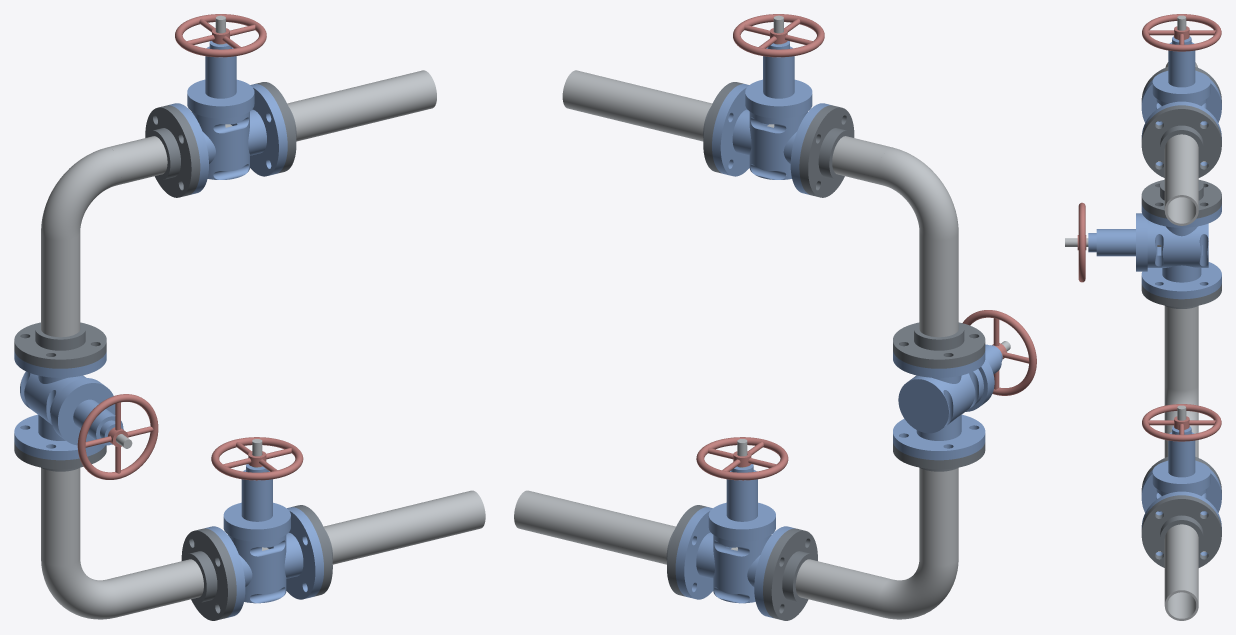
File: step_35.glb
3 renders of one model, left to right at view 1: azimuth 30°, elevation 25°; view 2: azimuth 150°, elevation 25°; view 3: azimuth 270°, elevation 25°, orthographic. The views are drawn at different scales.
Visible parts, largest first — view 1: part__body top valve, part__body bottom valve, part__bottom pipe, outlet, 360 long, part__top pipe, outlet, 335 long, part__body riser valve, part__bend 2 (top), part__riser pipe, upper, 230 long, part__riser pipe, lower, 70 long, part__bottom pipe, inlet, 210 long, part__flange bottom, inlet, part__flange top, inlet, part__flange riser, outlet (+11 smaller); view 2: part__body riser valve, part__body top valve, part__body bottom valve, part__bottom pipe, outlet, 360 long, part__top pipe, outlet, 335 long, part__bend 2 (top), part__riser pipe, upper, 230 long, part__riser pipe, lower, 70 long, part__bottom pipe, inlet, 210 long, part__flange top, inlet, part__flange bottom, inlet, part__flange riser, outlet (+10 smaller); view 3: part__body riser valve, part__flange bottom, outlet, part__flange top, outlet, part__bottom pipe, outlet, 360 long, part__top pipe, outlet, 335 long, part__riser pipe, lower, 70 long, part__bonnet top valve, part__bonnet bottom valve, part__handwheel top valve, part__handwheel bottom valve, part__body bottom valve, part__body top valve (+7 smaller).
Part boxes in pixels (bbox=[...]): part__body top valve: bbox=[168, 84, 287, 194]; part__body bottom valve: bbox=[205, 507, 323, 617]; part__bottom pipe, outlet, 360 long: bbox=[324, 490, 485, 564]; part__top pipe, outlet, 335 long: bbox=[287, 70, 436, 141]; part__body riser valve: bbox=[14, 351, 106, 460]; part__bend 2 (top): bbox=[41, 147, 121, 240]; part__riser pipe, upper, 230 long: bbox=[41, 233, 80, 337]; part__riser pipe, lower, 70 long: bbox=[41, 468, 80, 565]; part__bottom pipe, inlet, 210 long: bbox=[108, 559, 203, 617]; part__flange bottom, inlet: bbox=[181, 528, 236, 620]; part__flange top, inlet: bbox=[145, 105, 200, 197]; part__flange riser, outlet: bbox=[14, 322, 106, 368]; part__body riser valve: bbox=[893, 351, 991, 460]; part__body top valve: bbox=[712, 84, 831, 194]; part__body bottom valve: bbox=[675, 507, 795, 618]; part__bottom pipe, outlet, 360 long: bbox=[514, 490, 675, 564]; part__top pipe, outlet, 335 long: bbox=[562, 70, 712, 141]; part__bend 2 (top): bbox=[878, 147, 958, 240]; part__riser pipe, upper, 230 long: bbox=[919, 232, 958, 337]; part__riser pipe, lower, 70 long: bbox=[919, 468, 958, 565]; part__bottom pipe, inlet, 210 long: bbox=[795, 559, 890, 616]; part__flange top, inlet: bbox=[799, 105, 854, 197]; part__flange bottom, inlet: bbox=[763, 528, 817, 620]; part__flange riser, outlet: bbox=[893, 322, 985, 368]; part__body riser valve: bbox=[1141, 204, 1221, 299]; part__flange bottom, outlet: bbox=[1141, 495, 1221, 567]; part__flange top, outlet: bbox=[1141, 105, 1221, 177]; part__bottom pipe, outlet, 360 long: bbox=[1164, 524, 1198, 620]; part__top pipe, outlet, 335 long: bbox=[1164, 134, 1198, 225]; part__riser pipe, lower, 70 long: bbox=[1164, 306, 1198, 390]; part__bonnet top valve: bbox=[1152, 36, 1210, 99]; part__bonnet bottom valve: bbox=[1152, 426, 1210, 489]; part__handwheel top valve: bbox=[1142, 14, 1221, 51]; part__handwheel bottom valve: bbox=[1142, 404, 1221, 441]; part__body bottom valve: bbox=[1141, 460, 1221, 555]; part__body top valve: bbox=[1141, 70, 1221, 165].
Bounding box in the file's own units: 937 × 1172 × 322.
